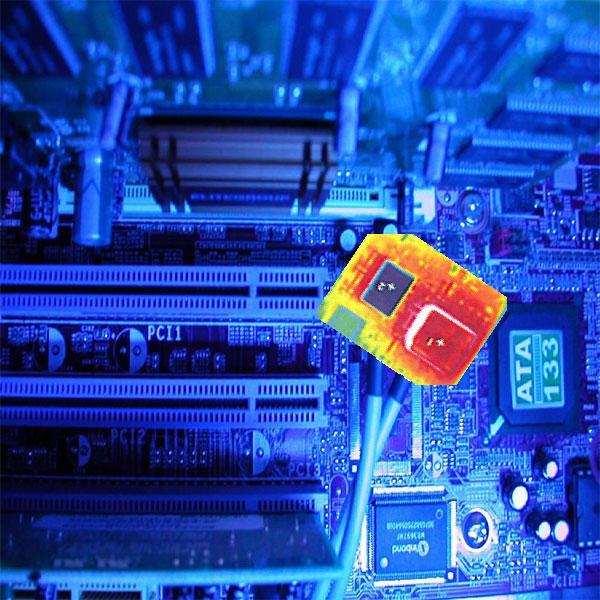componente_T: (312, 231, 514, 391)
